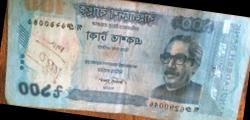100 taka: (13, 1, 235, 115)
